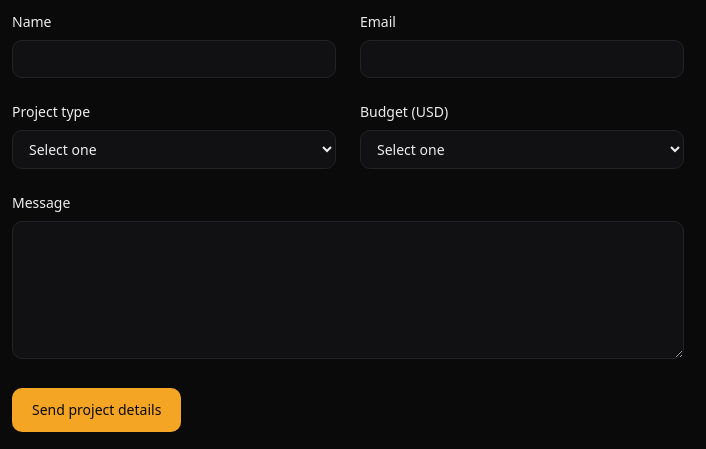
Test case: ContactForm › sends the form values and shows a success message
In the field labelled "Name": (174, 59) left=12, top=40, right=336, bottom=78, type "Test User"
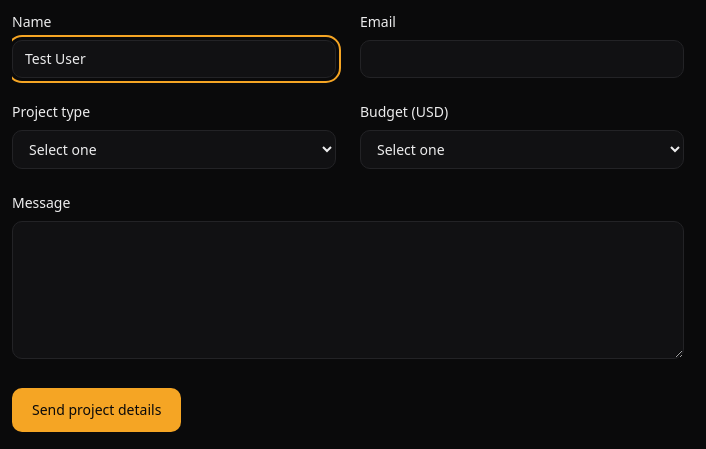
In the field labelled "Email": (522, 59) left=360, top=40, right=684, bottom=78, type "test@example.com"
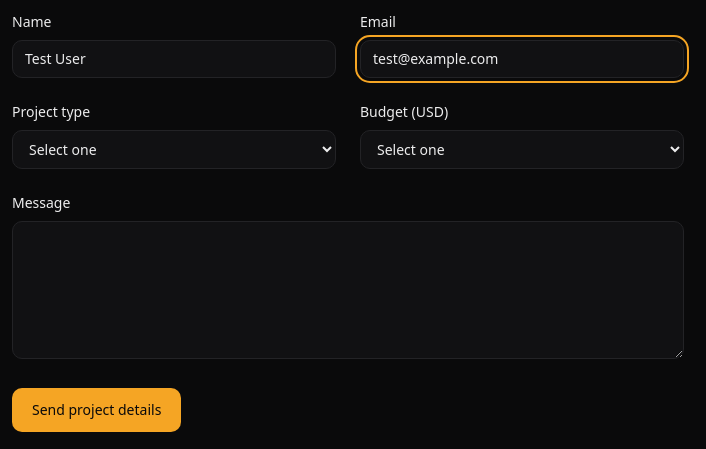
Select "Web scraping" in the dropdown labelled "Project type": (174, 150) left=12, top=130, right=336, bottom=169
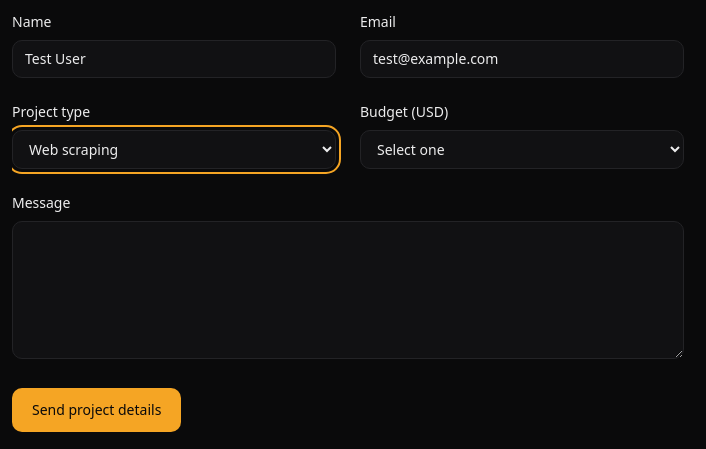
Select "Not sure yet" in the dropdown labelled "Budget (USD)": (522, 150) left=360, top=130, right=684, bottom=169
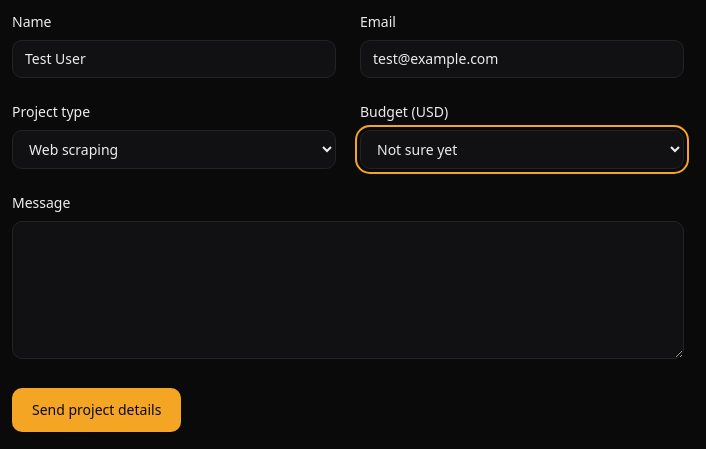
In the text box labelled "Message": (348, 290) left=12, top=221, right=684, bottom=359, type "I need data from a website."
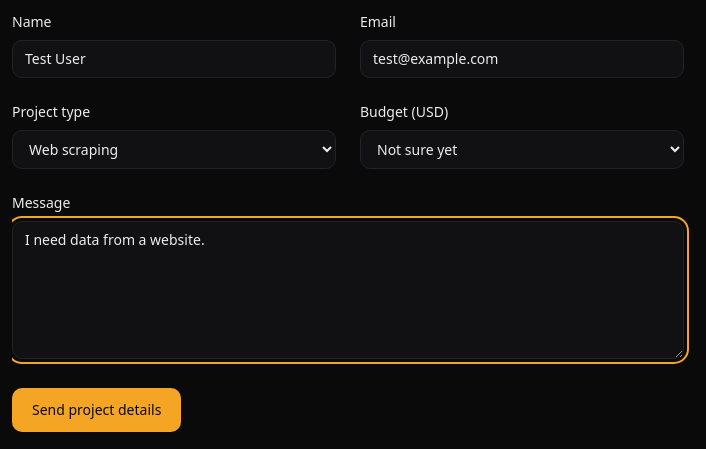
Click the button "Send project details": (97, 410) left=12, top=388, right=181, bottom=432
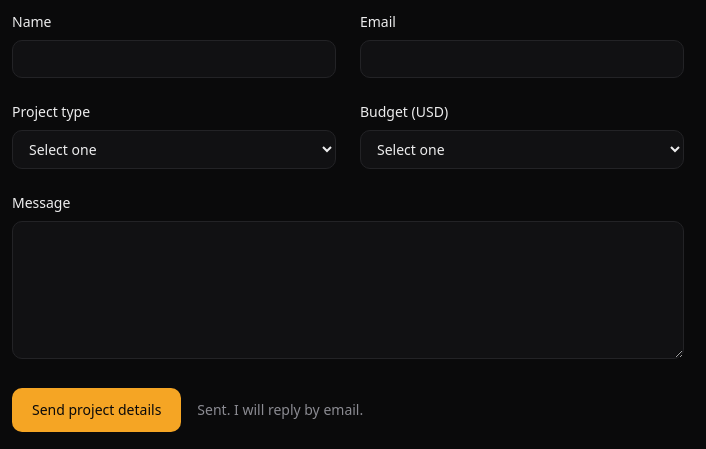
Check: the text "Sent. I will reply by email." is shown, box left=197, top=400, right=363, bottom=420
